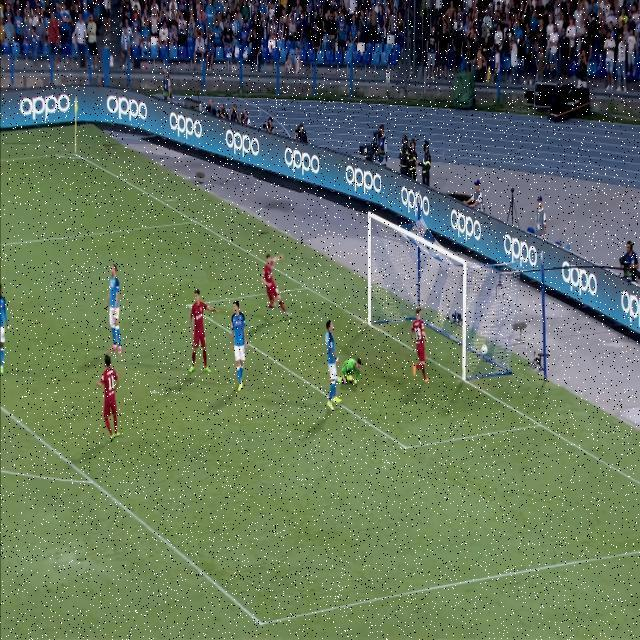ball: (478, 342, 489, 358)
goalkeeper: (338, 346, 363, 386)
player: (91, 347, 123, 439), (224, 301, 252, 394), (187, 289, 217, 371), (257, 254, 291, 326), (104, 260, 126, 358), (323, 318, 345, 412), (411, 308, 427, 388), (0, 278, 9, 382)
